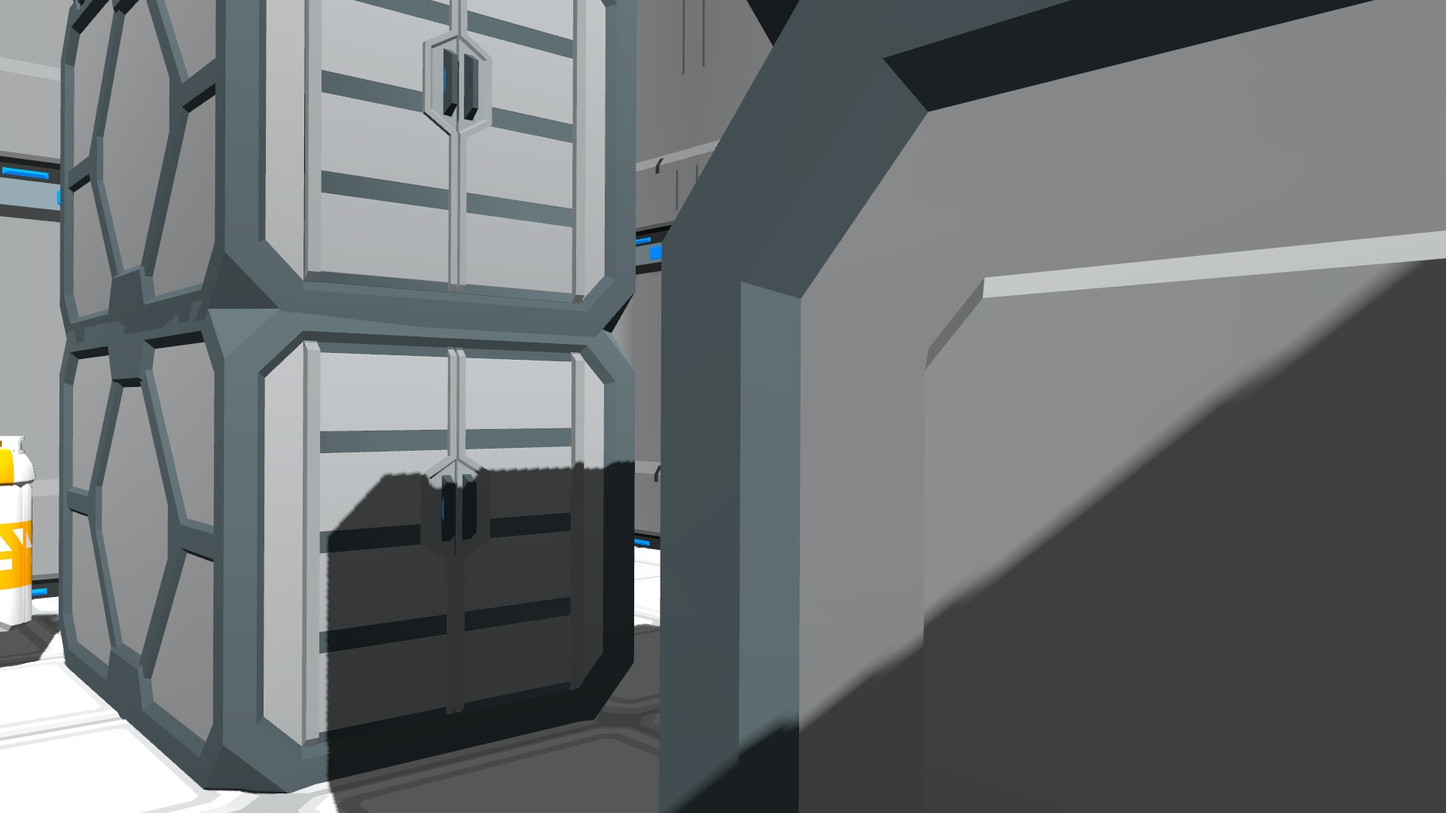yellow_barrel: (5, 428, 41, 632)
